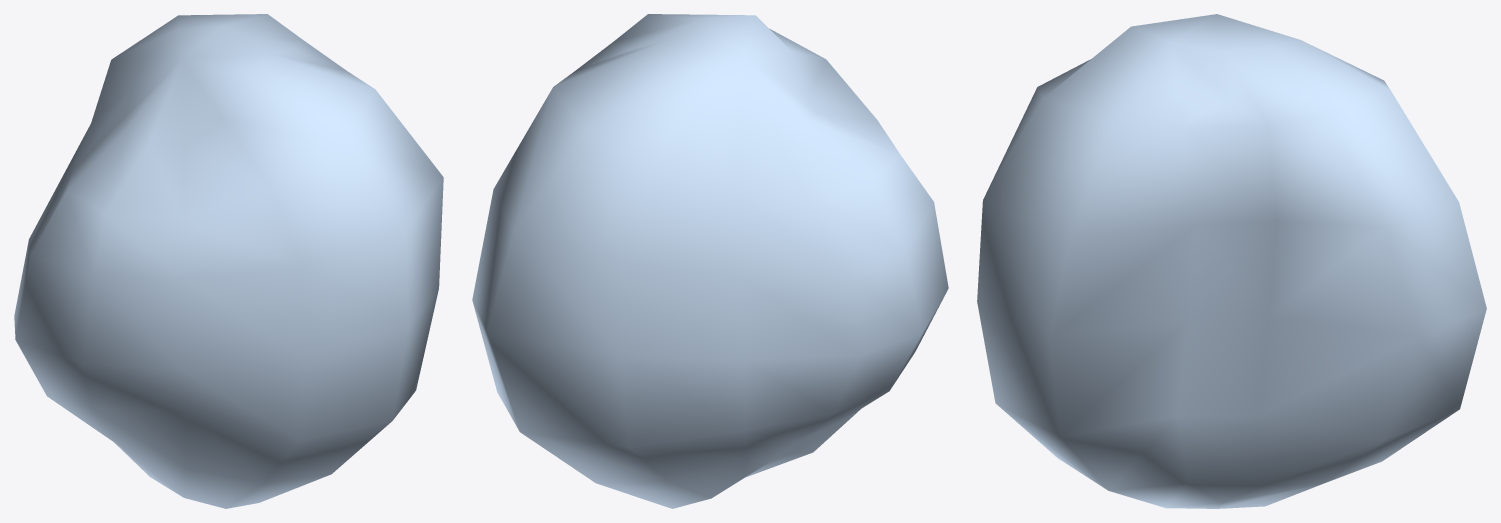
File: hAsteroid2_coll.obj
The picture shows the model from 3 angles, left to right: view 1: azimuth 30°, elevation 25°; view 2: azimuth 150°, elevation 25°; view 3: azimuth 270°, elevation 25°; orthographic projection. The views are drawn at different scales.
Parts seen in each view (by area): view 1: sphere2; view 2: sphere2; view 3: sphere2.
Part boxes in pixels (x1=…): sphere2: x1=14, y1=14, x2=443, y2=508; sphere2: x1=472, y1=14, x2=948, y2=508; sphere2: x1=977, y1=14, x2=1486, y2=508.
Bounding box in the file's own units: 105 × 120 × 120.
